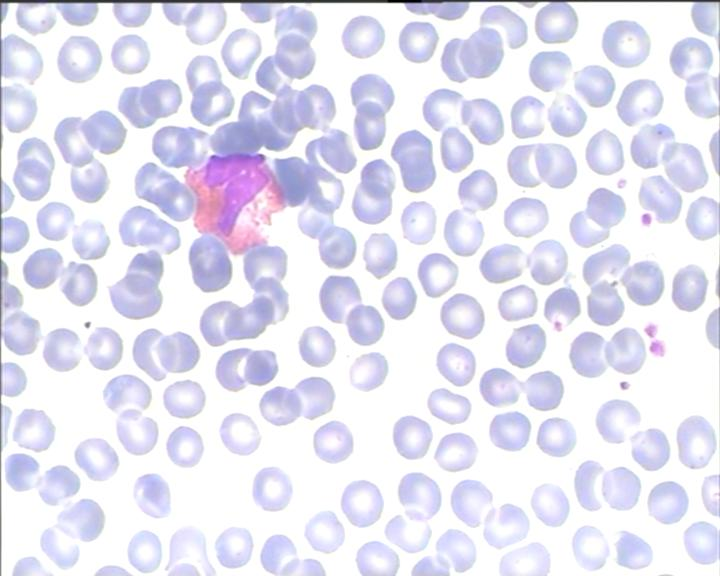eosi: (182, 147, 283, 258)
